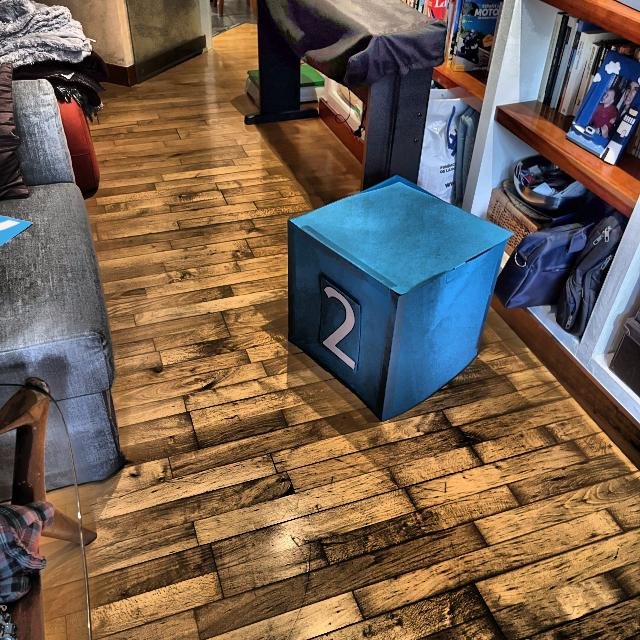blue box: (283, 171, 510, 425)
two: (321, 284, 361, 373)
